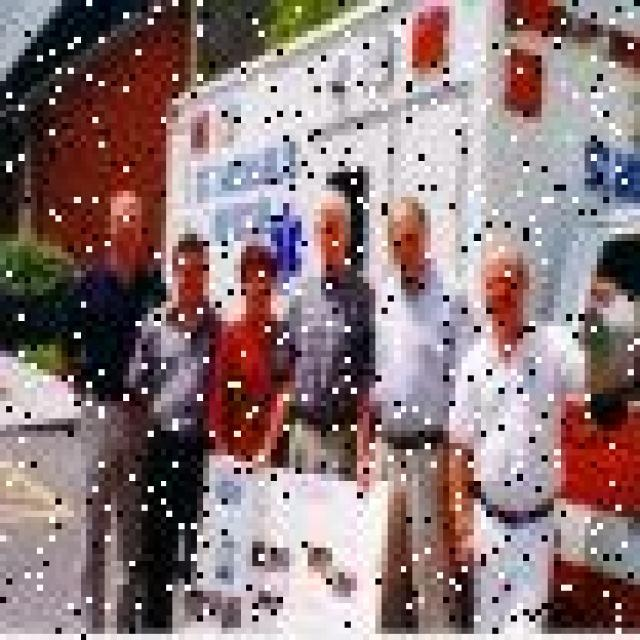emergency-vehicle: (151, 3, 637, 637)
